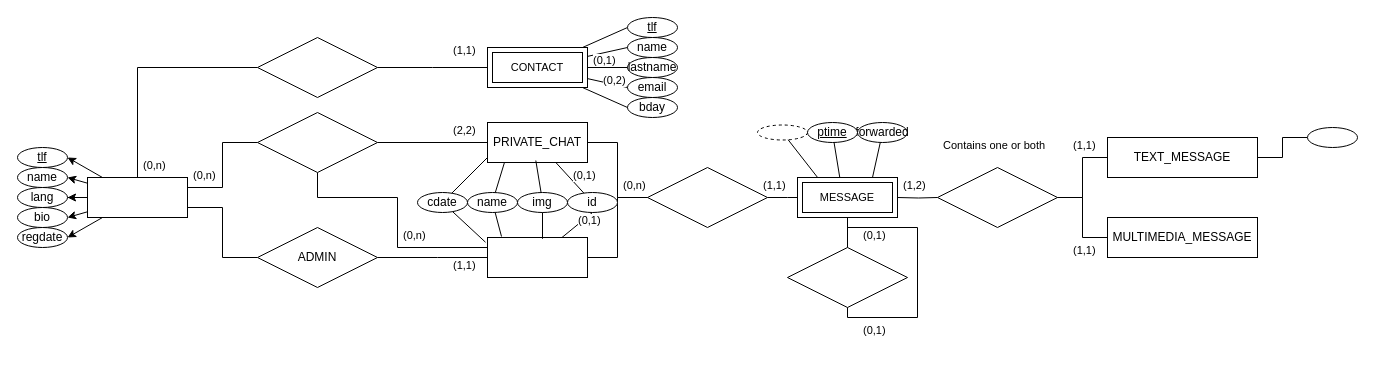
Some shapes in this 1376 by 368 pixel diagram are drawn without their labels. The centre of each missing label's shape, as x and y in pixels:
"CONTAINS" goes at point 997,197.
"GROUP_CHAT" goes at point 537,257.
"MEMBER" goes at point 317,142.
"mimetype" goes at point 1332,137.
"nmembers" goes at point 782,132.
"PUBLISH" goes at point 707,197.
"REPLIES" goes at point 847,277.
"SAVES" goes at point 317,67.
"USER" goes at point 137,197.
